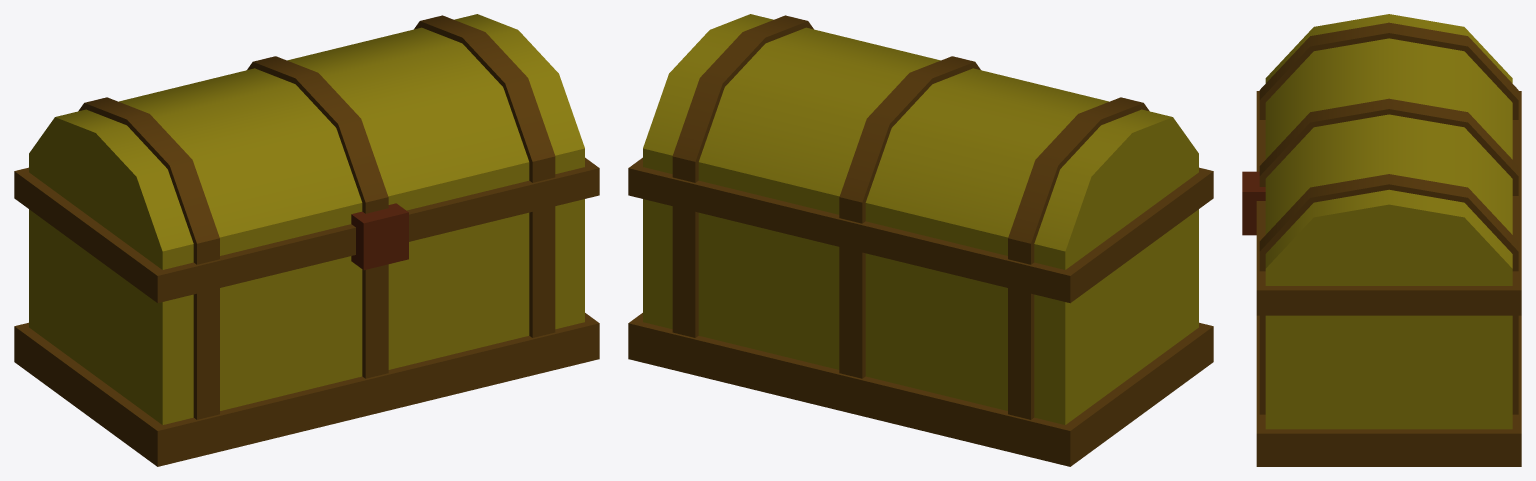
The model's file is lib-laby-treasure.fbx.
3 renders of one model, left to right at view 1: azimuth 30°, elevation 25°; view 2: azimuth 150°, elevation 25°; view 3: azimuth 270°, elevation 25°, orthographic. The views are drawn at different scales.
Visible parts, largest first — view 1: lib_laby_treasure:pCube8; view 2: lib_laby_treasure:pCube8; view 3: lib_laby_treasure:pCube8.
Part boxes in pixels (x1,y1,x2,y2): lib_laby_treasure:pCube8: (14, 14, 599, 466); lib_laby_treasure:pCube8: (628, 14, 1213, 466); lib_laby_treasure:pCube8: (1242, 14, 1521, 466).
Bounding box in the file's own units: 1.91 × 1.18 × 1.13.
